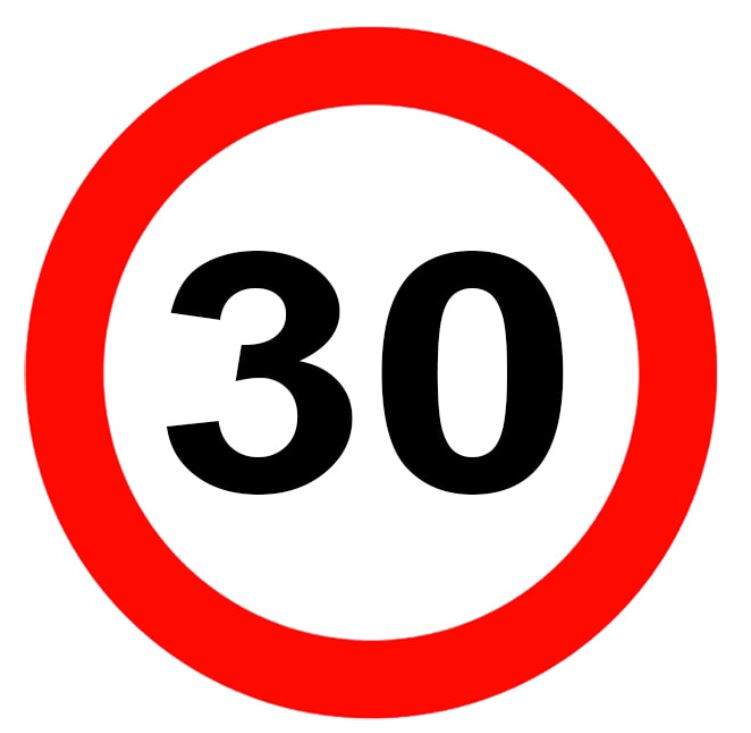30 Km Hiz Siniri: (29, 25, 720, 716)
